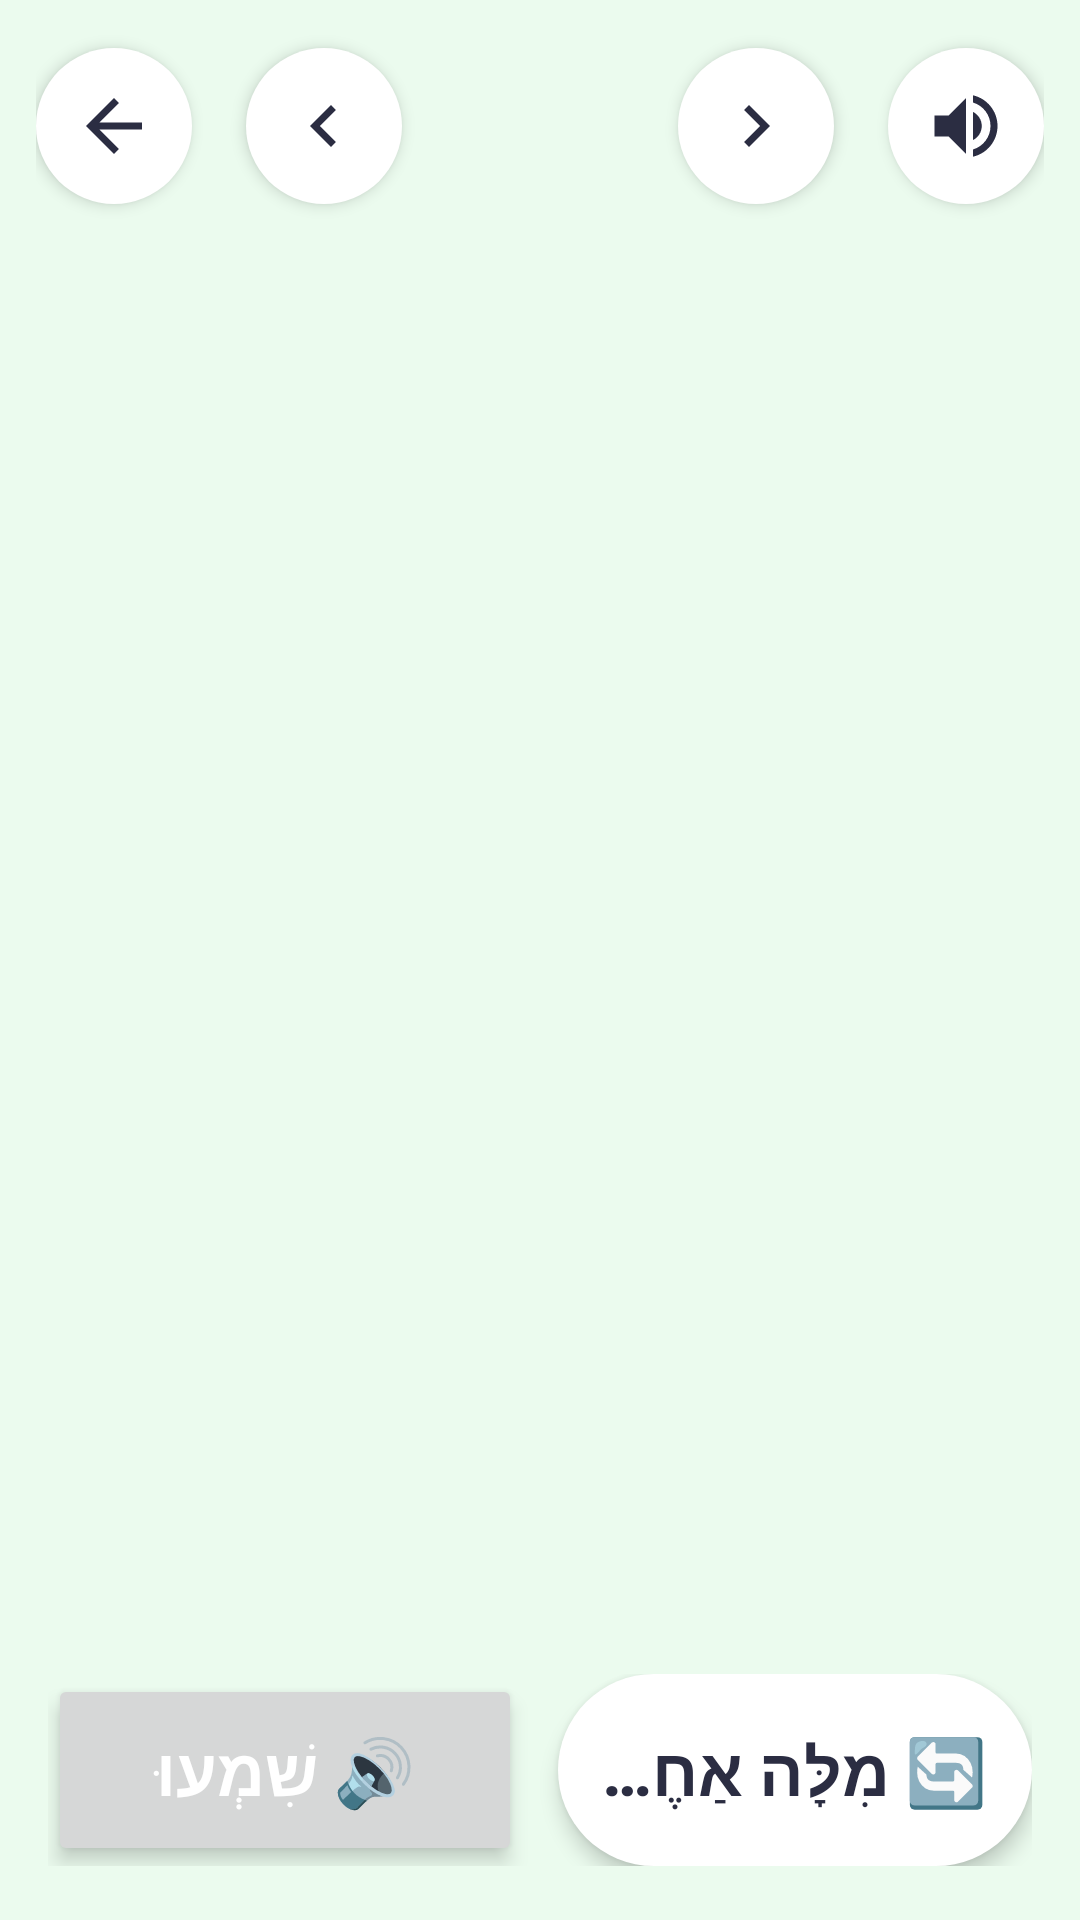

Screen size 1080w x 1920h. Icon name, then its box in pixels as (x1, y1, x2, y2):
השמעה: (888, 48, 1044, 204)
חזרה: (36, 48, 192, 204)
